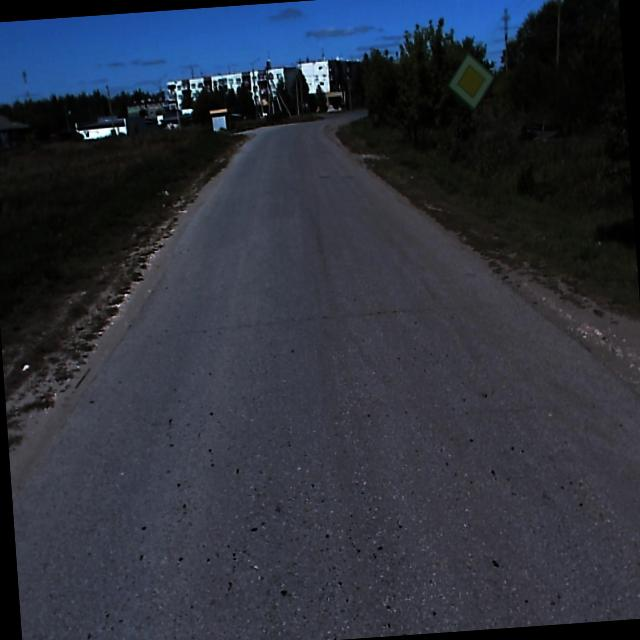road: (12, 107, 640, 640)
